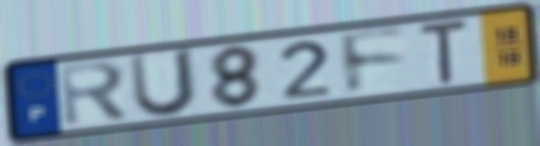2: (276, 39, 335, 102)
8: (206, 43, 264, 111)
F: (335, 25, 411, 98)
R: (56, 58, 132, 130)
T: (416, 17, 473, 88)
U: (126, 45, 199, 120)
